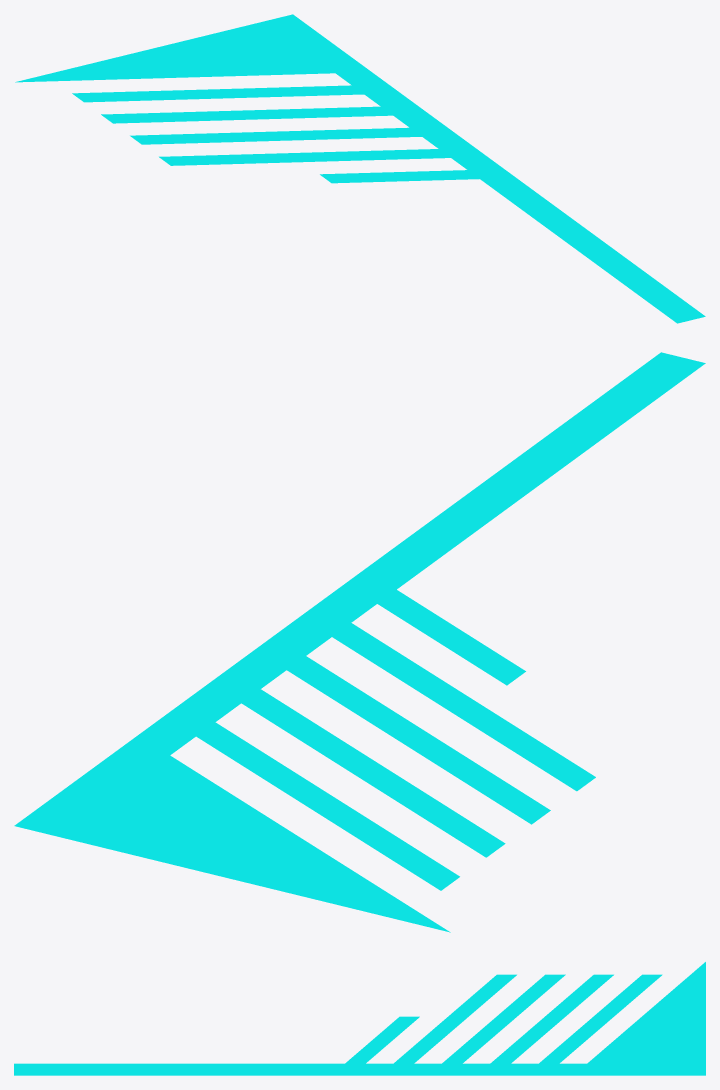
Rendered from 040shemi09250975kts.dae.
3 views of the same model, one above another, from view 1: azimuth 30°, elevation 25°; view 2: azimuth 150°, elevation 25°; view 3: azimuth 270°, elevation 25° (orthographic). The views are drawn at different scales.
Visible parts, largest first — view 1: Plane; view 2: Plane; view 3: Plane.
Part boxes in pixels (box(x1,y1,x2,y2)): Plane: box(15, 14, 705, 323); Plane: box(14, 352, 705, 932); Plane: box(14, 962, 705, 1075).
Size of the model in its own units: 39 by 100 by 0.
